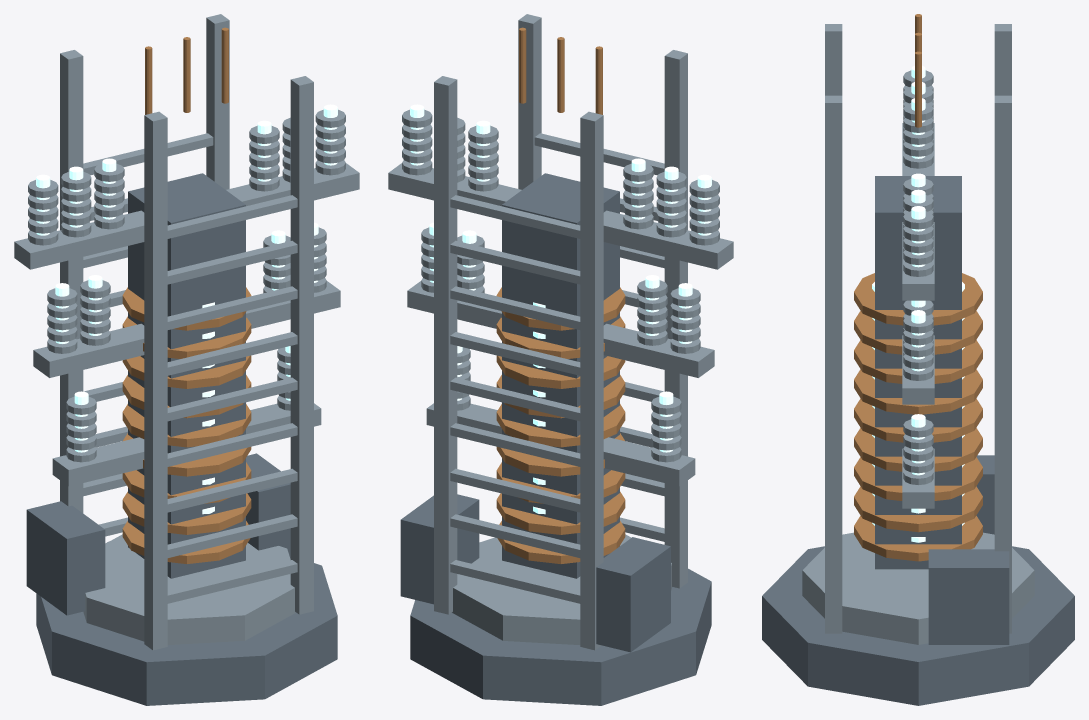
The model's file is relay_t3.glb.
3 renders of one model, left to right at view 1: azimuth 30°, elevation 25°; view 2: azimuth 150°, elevation 25°; view 3: azimuth 270°, elevation 25°, orthographic.
Visible parts, largest first — view 1: Lattice leg (×4), Foundation, Lattice tie (×12), Transformer, Crossarm (×3), Base upper armor, Induction loop (×9), Switchgear (×2), Crown conductor (×3); view 2: Lattice leg (×4), Lattice tie (×13), Foundation, Transformer, Crossarm (×3), Induction loop (×9), Switchgear (×2), Base upper armor, Crown conductor (×3); view 3: Foundation, Lattice leg (×4), Induction loop (×9), Transformer, Base upper armor, Switchgear (×2), Crossarm (×3), Crown conductor.
Boxes of the visible parts, x1,y1,x2,y2 form: Lattice leg (×4): (60,14,313,650); Foundation: (36,541,337,705); Lattice tie (×12): (83,133,297,603); Transformer: (128,173,245,578); Crossarm (×3): (14,163,359,486); Base upper armor: (83,534,295,644); Induction loop (×9): (122,287,251,563); Switchgear (×2): (26,453,290,615); Crown conductor (×3): (145,27,228,114); Lattice leg (×4): (434,14,687,650); Lattice tie (×13): (450,133,664,603); Foundation: (410,568,711,705); Transformer: (502,173,619,578); Crossarm (×3): (388,163,733,486); Induction loop (×9): (496,287,625,563); Switchgear (×2): (400,494,670,652); Base upper armor: (452,534,672,644); Crown conductor (×3): (519,27,602,114); Foundation: (762,546,1074,705); Lattice leg (×4): (825,24,1011,633); Induction loop (×9): (854,273,982,561); Transformer: (875,176,961,569); Base upper armor: (802,532,1034,644); Switchgear (×2): (928,455,1009,644); Crossarm (×3): (902,123,934,508); Crown conductor: (915,51,921,127).
Bounding box in the file's own units: 1.89 × 3.31 × 1.55.
